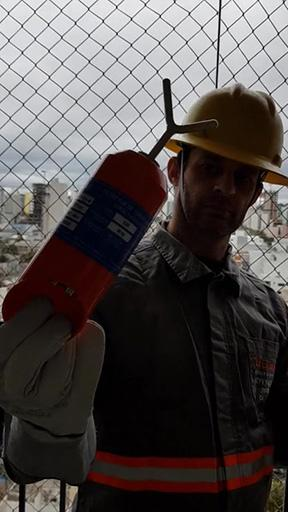Detector_Tensao_Contato: (1, 78, 220, 346)
